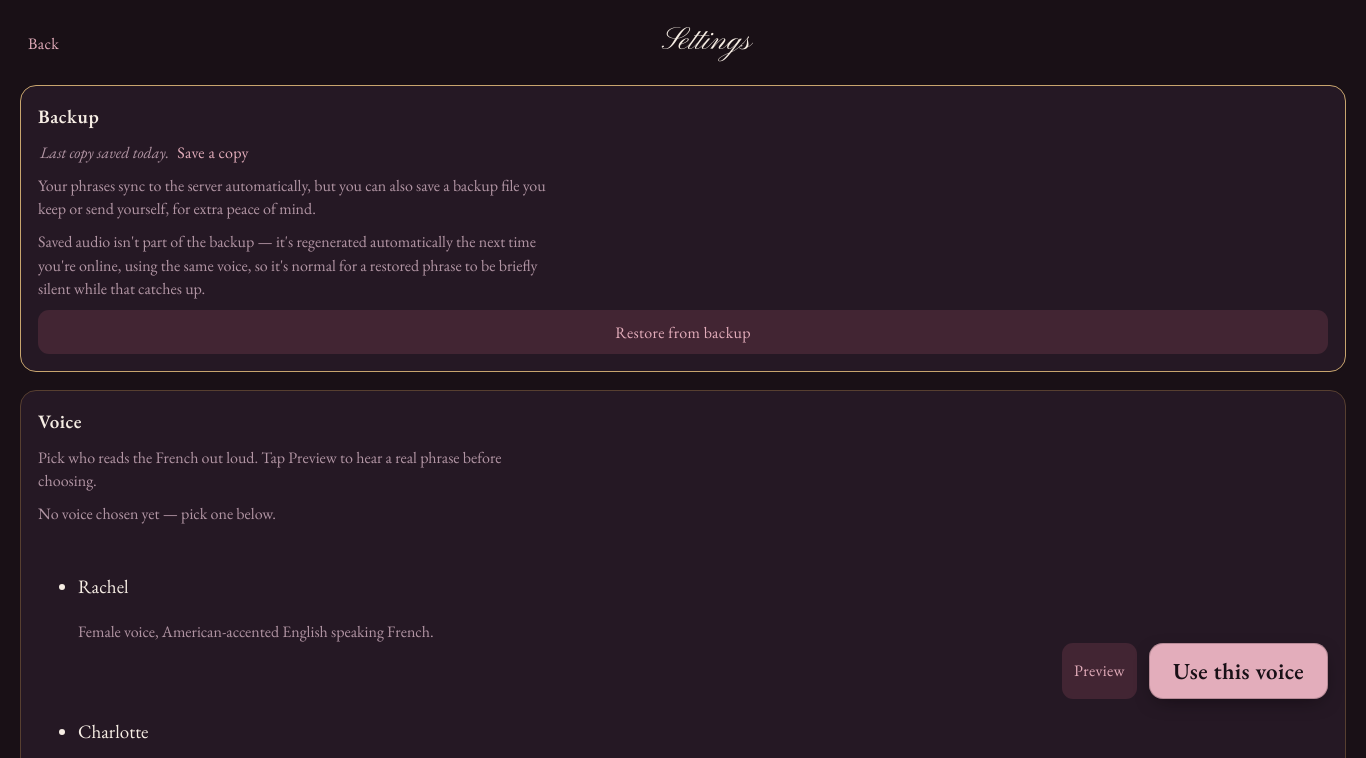
SettingsScreen › voice picker › shows a calm explanation, naming the server, when a preview fails because it is not set up
The width and height of the screenshot is (1366, 758).
Click the button with test id "voice-preview-voice-rachel".
click(1100, 671)  # box [1062,643,1137,699]
(page scrolled)
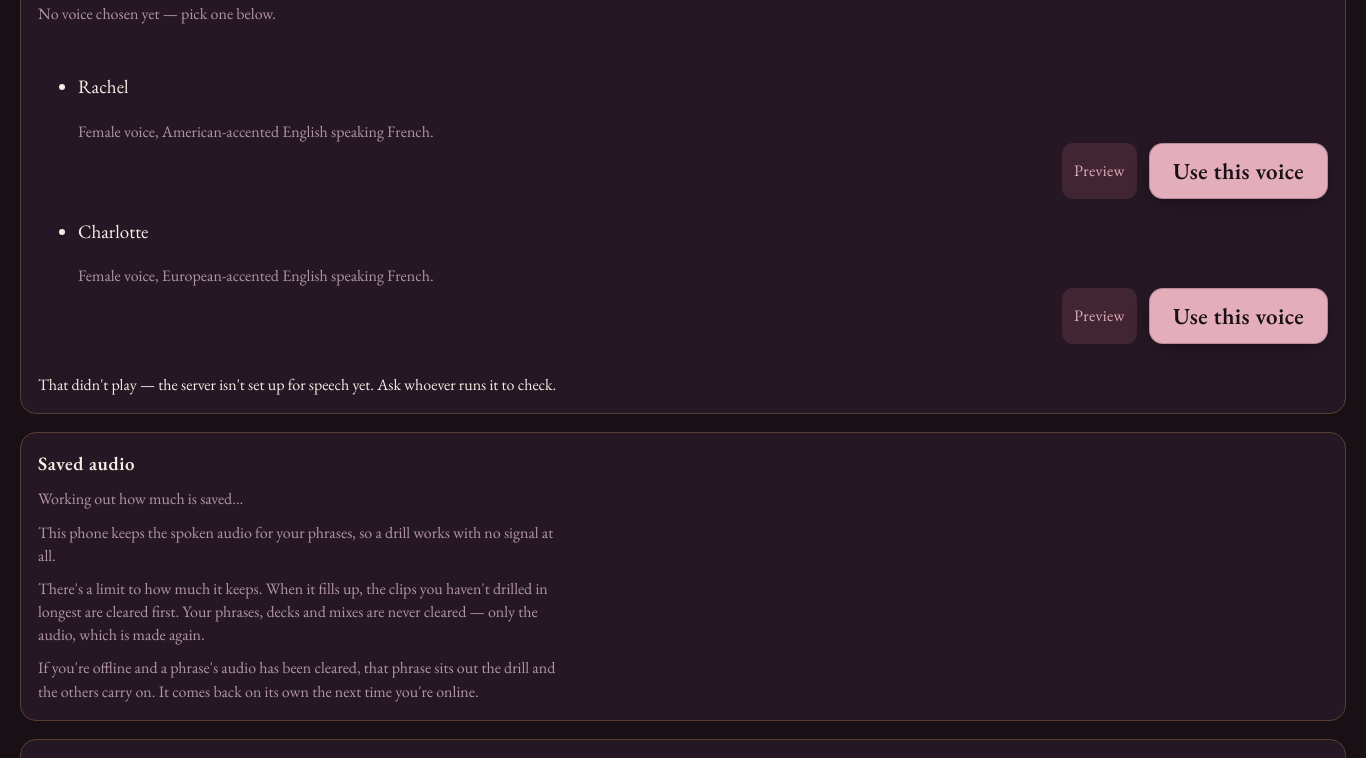
Result: the text with test id "voice-preview-error" shows "server" at [38,374,556,395]
